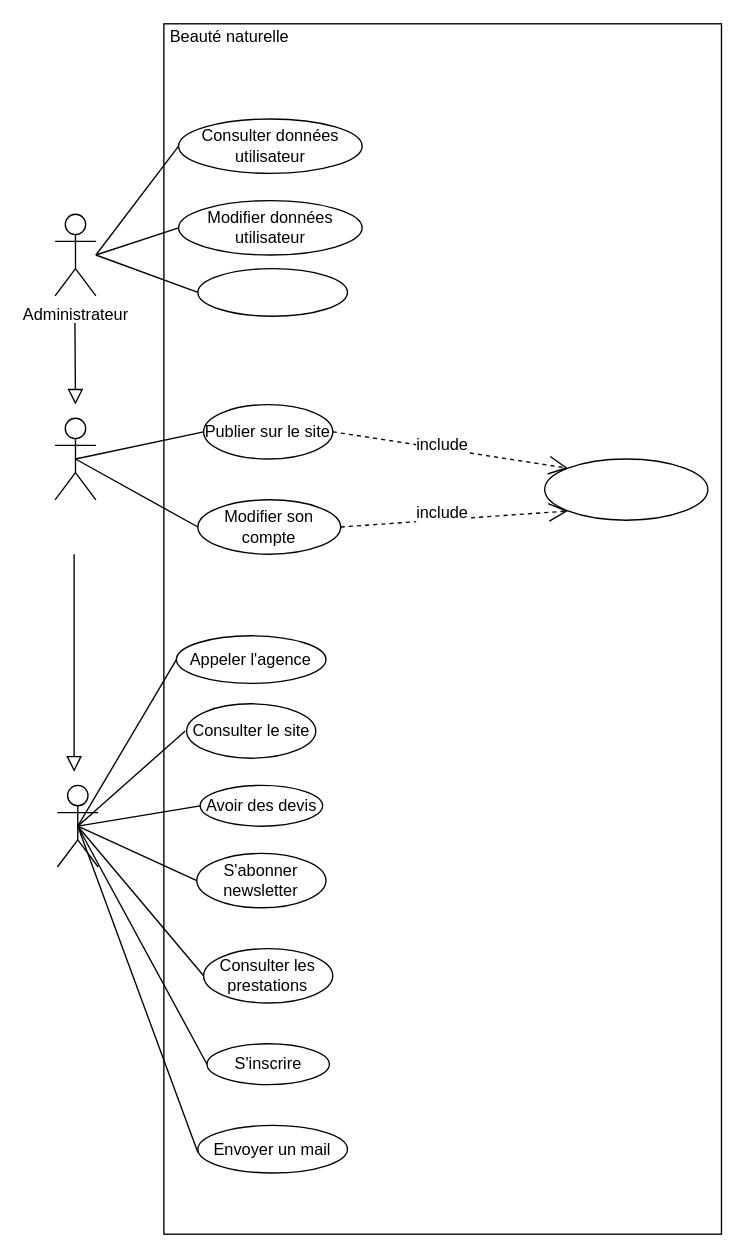
The diagram is 745 pixels wide and 1258 high, and some of its shapes have lost their labels. The shapes that lost their labels are listed below. From the top down, each one's centre as x and y in pixels, then its label:
(272,291): Modérer le site
(75,458): Membre
(625,489): Se connecter
(77,825): Visiteur
